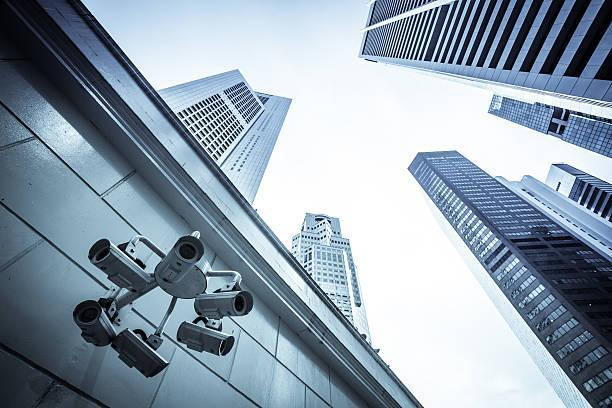camera: (179, 265, 277, 338), (171, 304, 249, 385), (104, 320, 182, 395), (56, 294, 133, 358), (87, 226, 155, 297), (157, 211, 209, 300)
